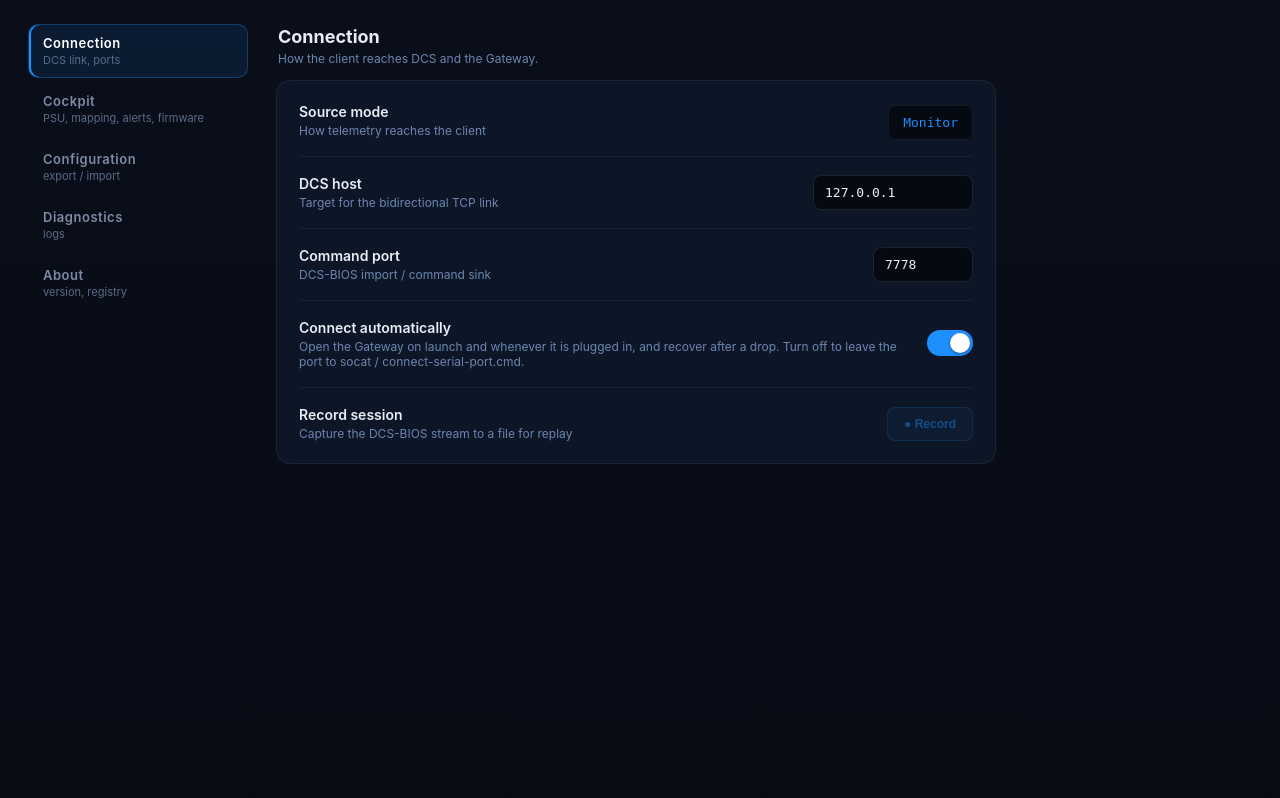
Test case: T40 Settings › Cockpit › Firmware updates (#192) › the header names the latest this client can use, also when a newer major is out
Click the button "Cockpit PSU, mapping, alerts, firmware": (138, 109) [28,82,248,136]
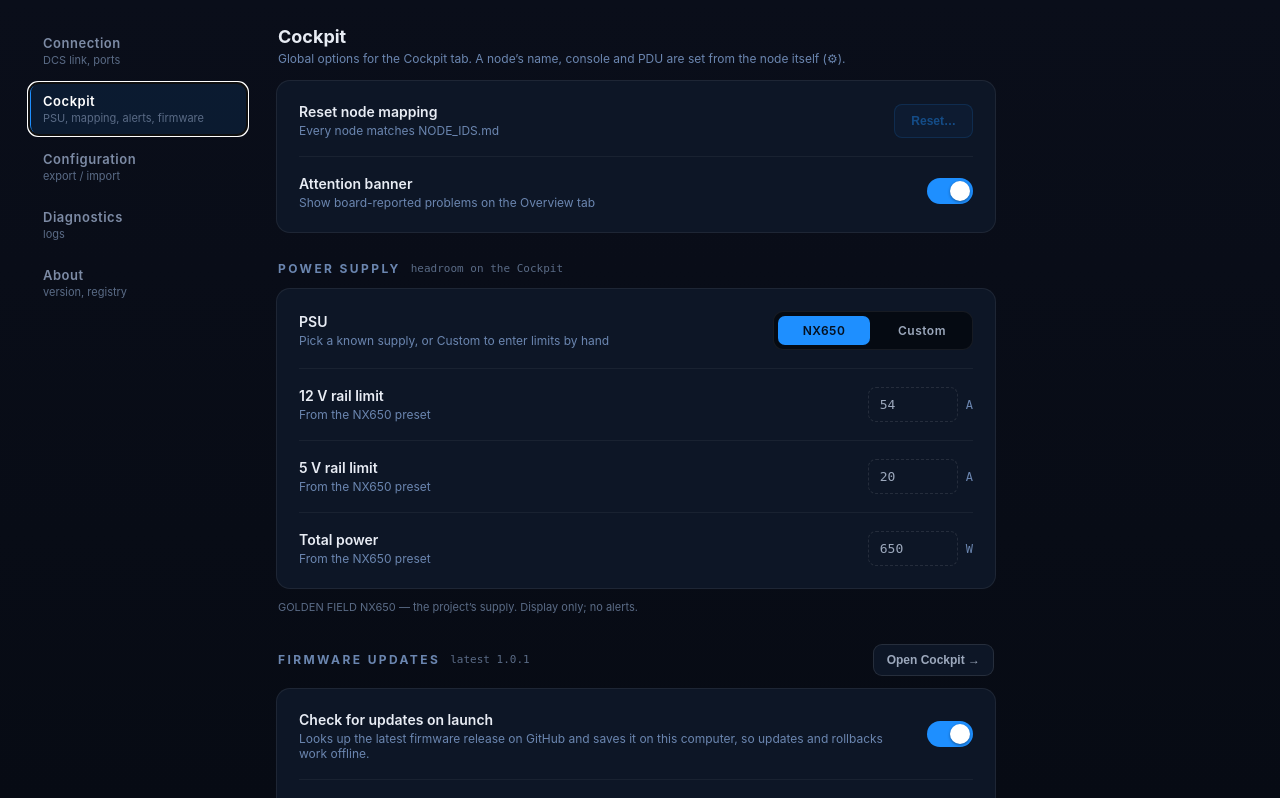
Now the text "latest 1.0.1" is shown, box [450,653,530,666]
